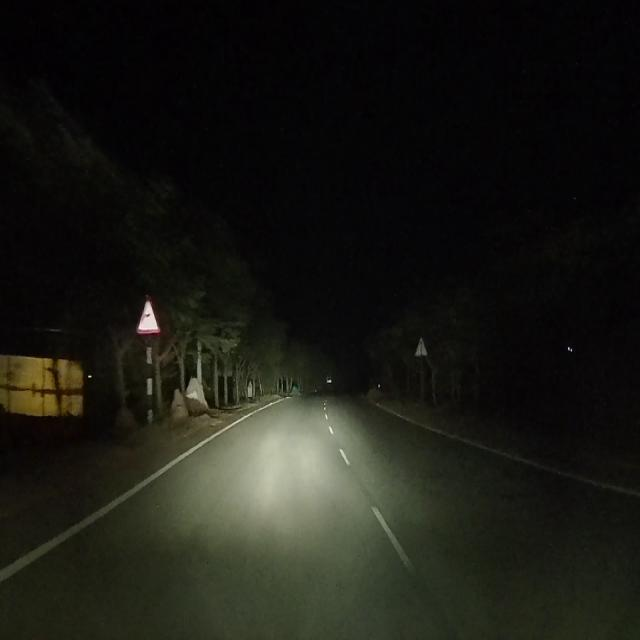right-hand-curve: (138, 296, 158, 331)
